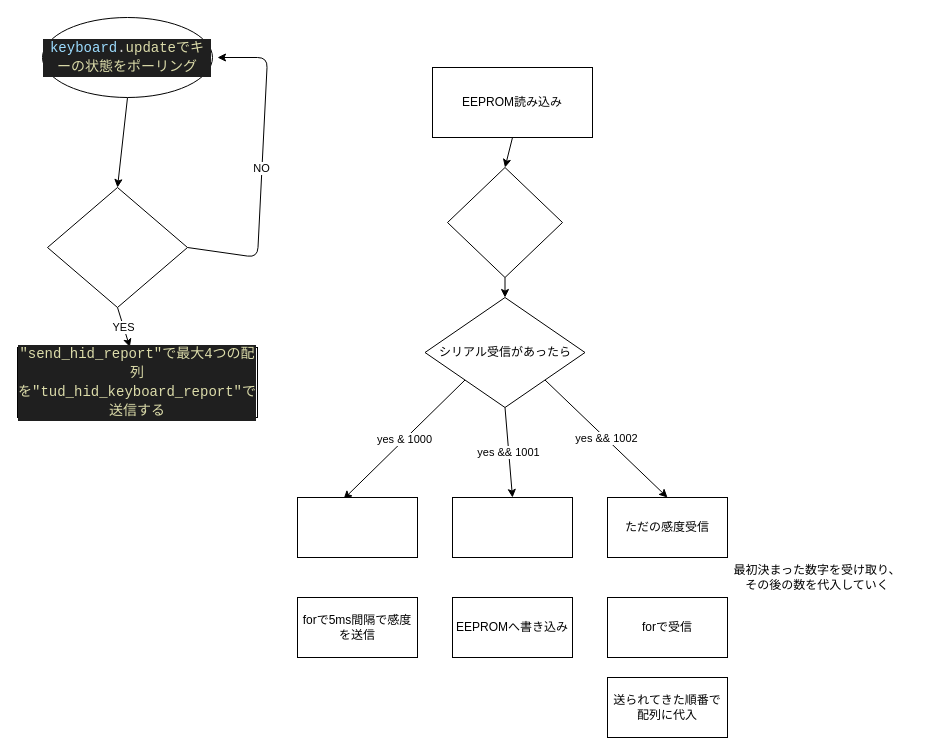
The diagram is 925 pixels wide and 755 high, and some of its shapes have lost their labels. Each missing label, with the box of its shape:
EEPROMへの保存: (452, 496, 572, 558)
forで監視 閾値以上だったら: (46, 186, 188, 308)
pcと接続された: (446, 166, 562, 278)
現在の感度の送信: (296, 496, 418, 558)
